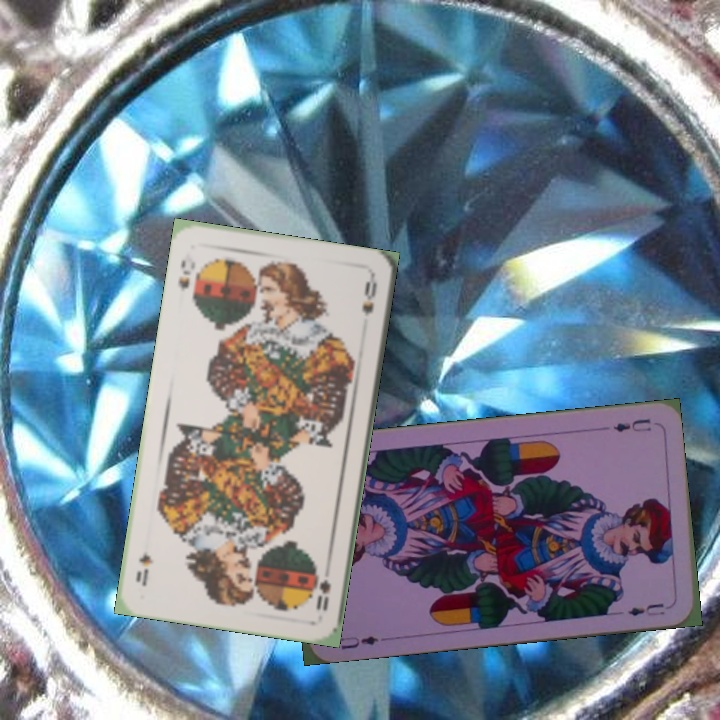EU: (610, 414, 654, 435), (336, 632, 381, 652)
SO: (174, 249, 198, 292), (312, 570, 333, 613)
